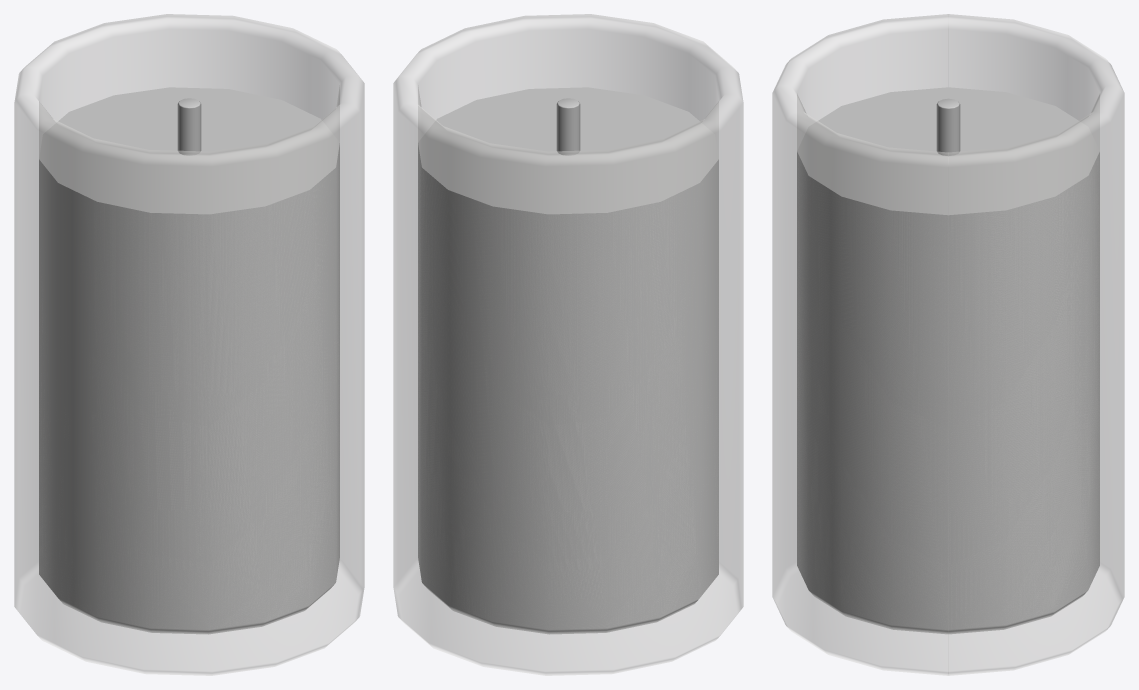
File: Candle_4.fbx
3 views of the same model, side by side, from view 1: azimuth 30°, elevation 25°; view 2: azimuth 150°, elevation 25°; view 3: azimuth 270°, elevation 25° (orthographic).
Parts seen in each view (by area): view 1: Candle_4; view 2: Candle_4; view 3: Candle_4.
Boxes of the visible parts, left/top/right/bottom form: Candle_4: left=14, top=14, right=364, bottom=675; Candle_4: left=393, top=14, right=743, bottom=675; Candle_4: left=772, top=14, right=1124, bottom=675.
Bounding box in the file's own units: 14.1 × 22.87 × 14.1.
